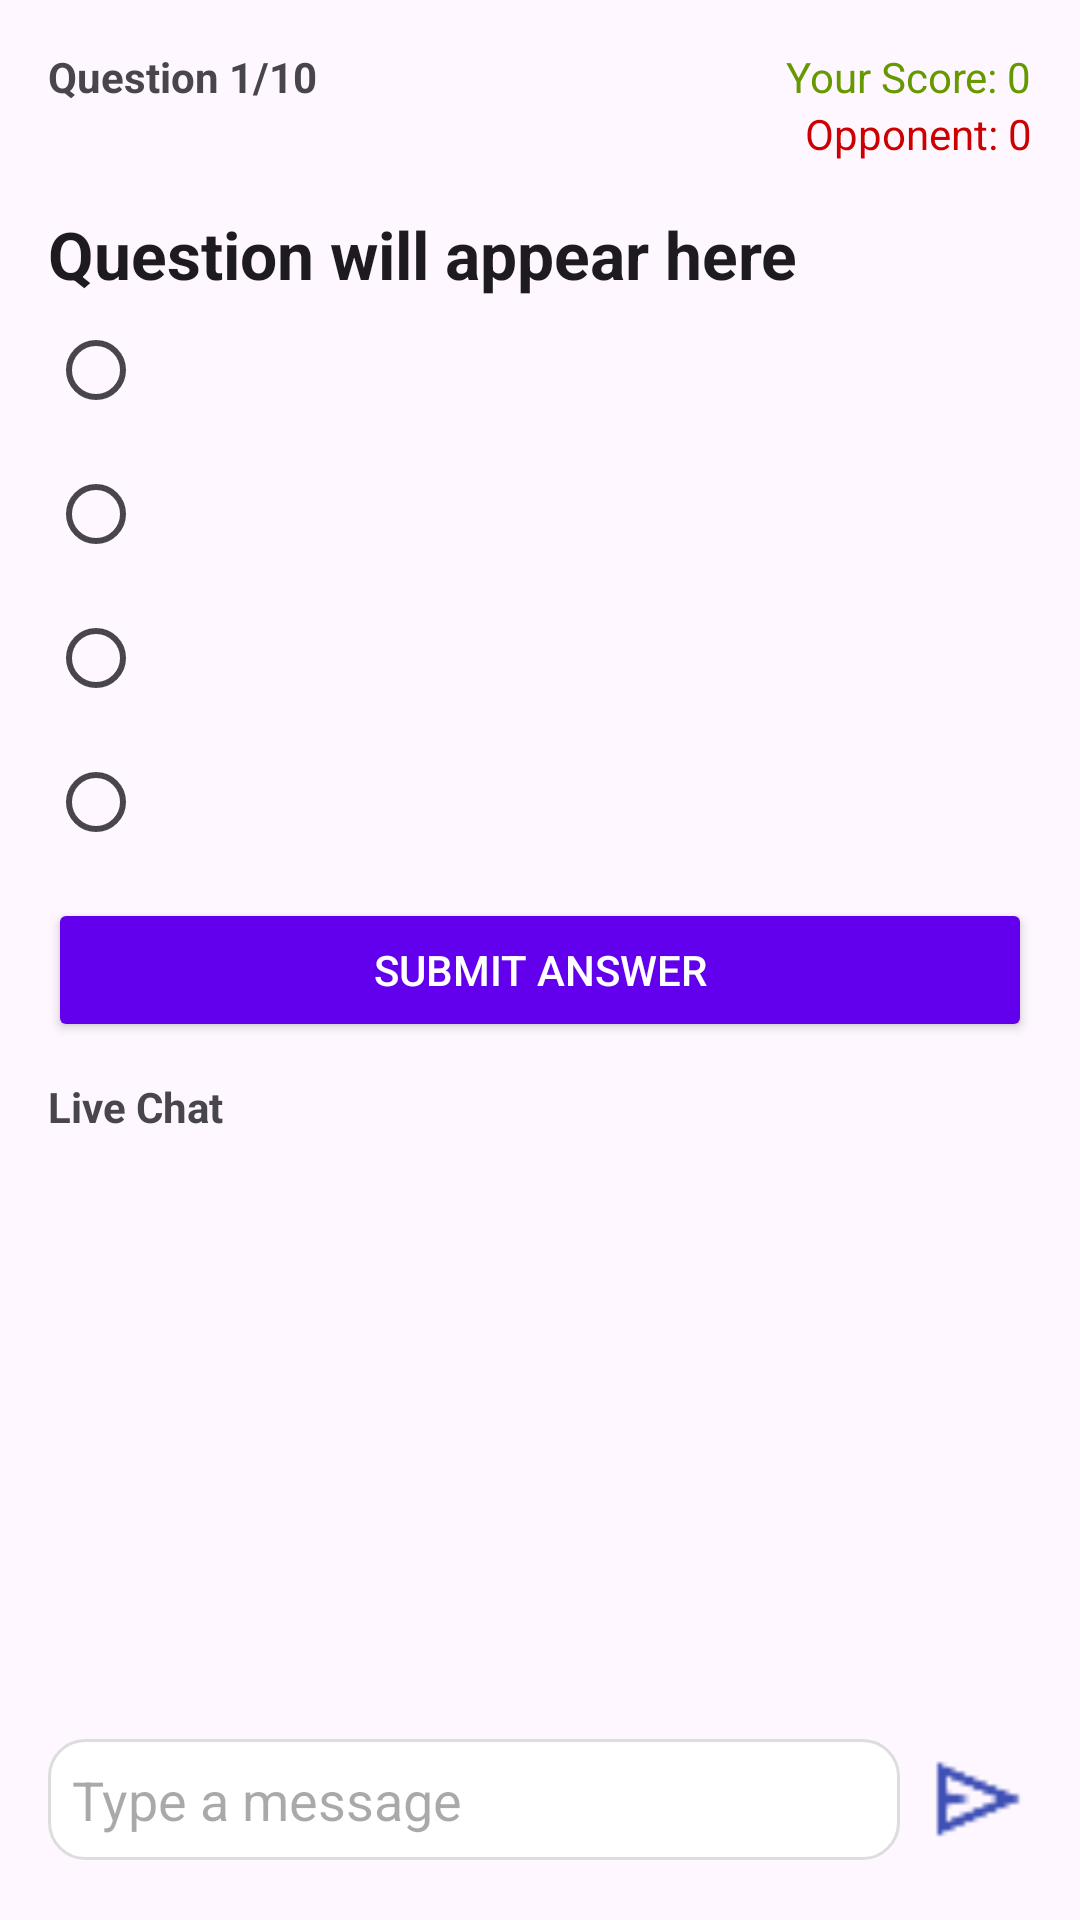

Named icons in this screenshot (1080*1920) and their centers, (x=x, y=y):
Send: (x=978, y=1799)
